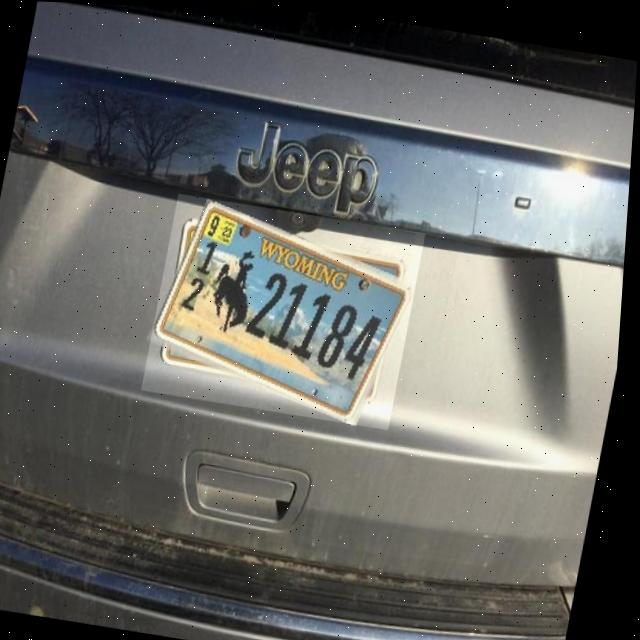LicensePlate: (156, 196, 418, 421)
